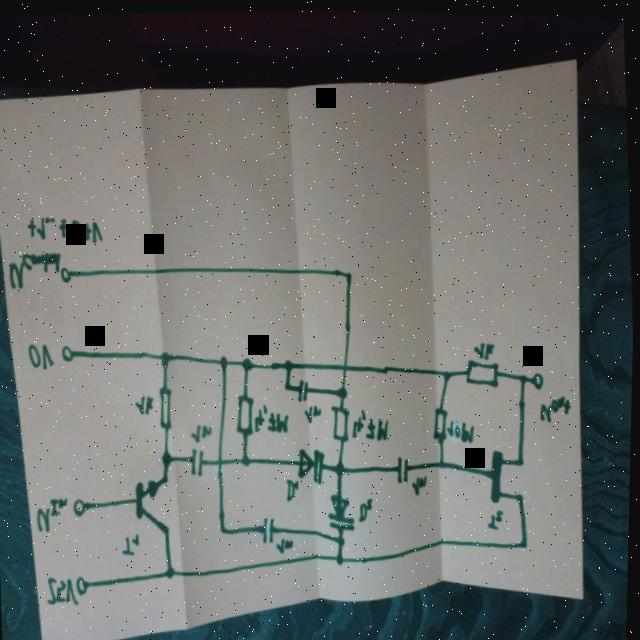capacitor: (396, 452, 415, 486), (191, 447, 208, 478), (263, 515, 279, 545), (298, 378, 312, 403)
crossover: (216, 455, 228, 468), (341, 361, 352, 373)
diode: (328, 491, 357, 533), (299, 446, 329, 486)
junction: (160, 349, 173, 370), (334, 459, 348, 476), (162, 450, 176, 467), (242, 356, 256, 372), (167, 565, 179, 580), (285, 357, 296, 373), (339, 384, 350, 400), (241, 454, 253, 467), (220, 354, 230, 369), (443, 367, 454, 380), (338, 534, 349, 546), (345, 268, 354, 282), (220, 525, 230, 536), (521, 537, 531, 548), (337, 553, 346, 565), (520, 371, 529, 383), (439, 457, 448, 469), (284, 380, 293, 391)
resistor: (466, 356, 501, 388), (235, 393, 258, 436), (332, 403, 353, 443), (159, 386, 175, 431), (433, 404, 452, 440)
terminal: (74, 498, 89, 519), (62, 344, 77, 364), (77, 576, 91, 597), (532, 368, 546, 389), (61, 266, 74, 286)
text: (26, 213, 105, 248), (8, 250, 63, 292), (351, 406, 392, 441), (37, 496, 72, 535), (254, 402, 292, 434), (47, 576, 81, 608), (539, 391, 573, 422), (28, 343, 57, 373), (448, 417, 477, 443), (123, 533, 144, 560), (473, 339, 497, 360), (135, 394, 157, 416), (192, 423, 215, 444), (359, 496, 376, 523), (286, 476, 303, 502), (304, 403, 324, 424), (413, 472, 430, 496), (277, 536, 297, 556), (489, 508, 506, 529)
transistor: (133, 477, 172, 538), (489, 447, 529, 503)
